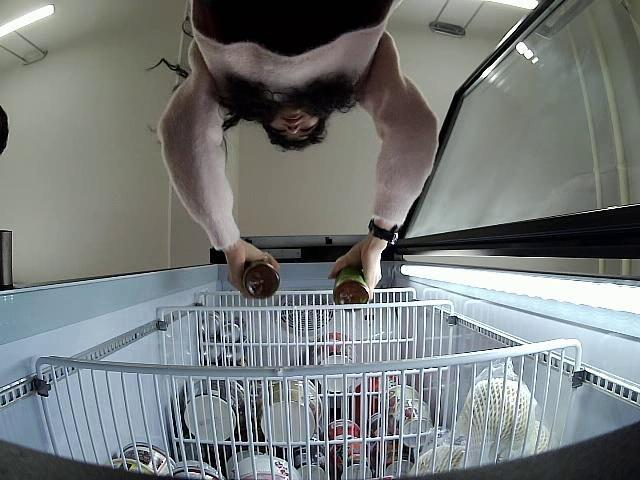19_17cha: (328, 264, 368, 313), (242, 258, 282, 302)
